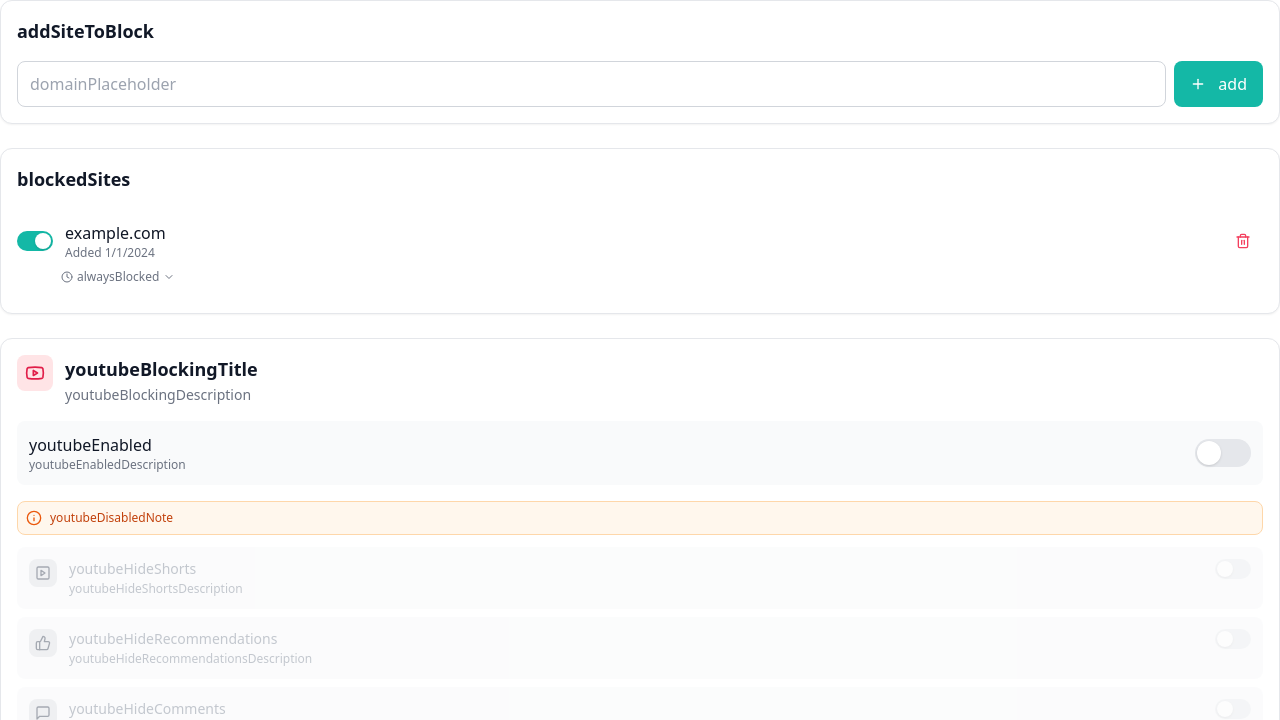
Test: BlocklistTab › パスワード保護なしの解除 › 削除ボタンでは確認モーダルが開くだけで、まだ削除しない
The width and height of the screenshot is (1280, 720).
Click the button with test id "blocklist-item-remove" at [1243, 241], box [1223, 227, 1263, 255]
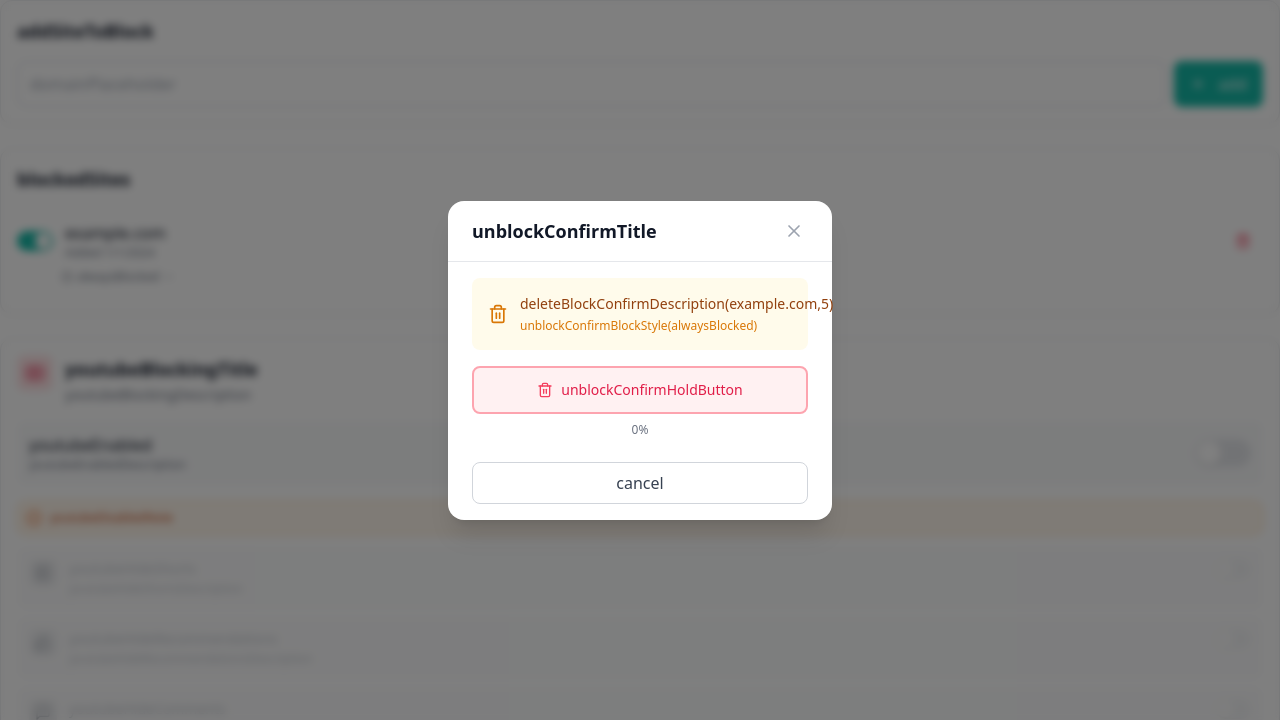
Check: the button with test id "unblock-confirm-hold-button" is shown, box [472, 366, 808, 414]
Check: the text "deleteBlockConfirmDescription(example.com,5)" is shown, box [520, 294, 833, 314]
